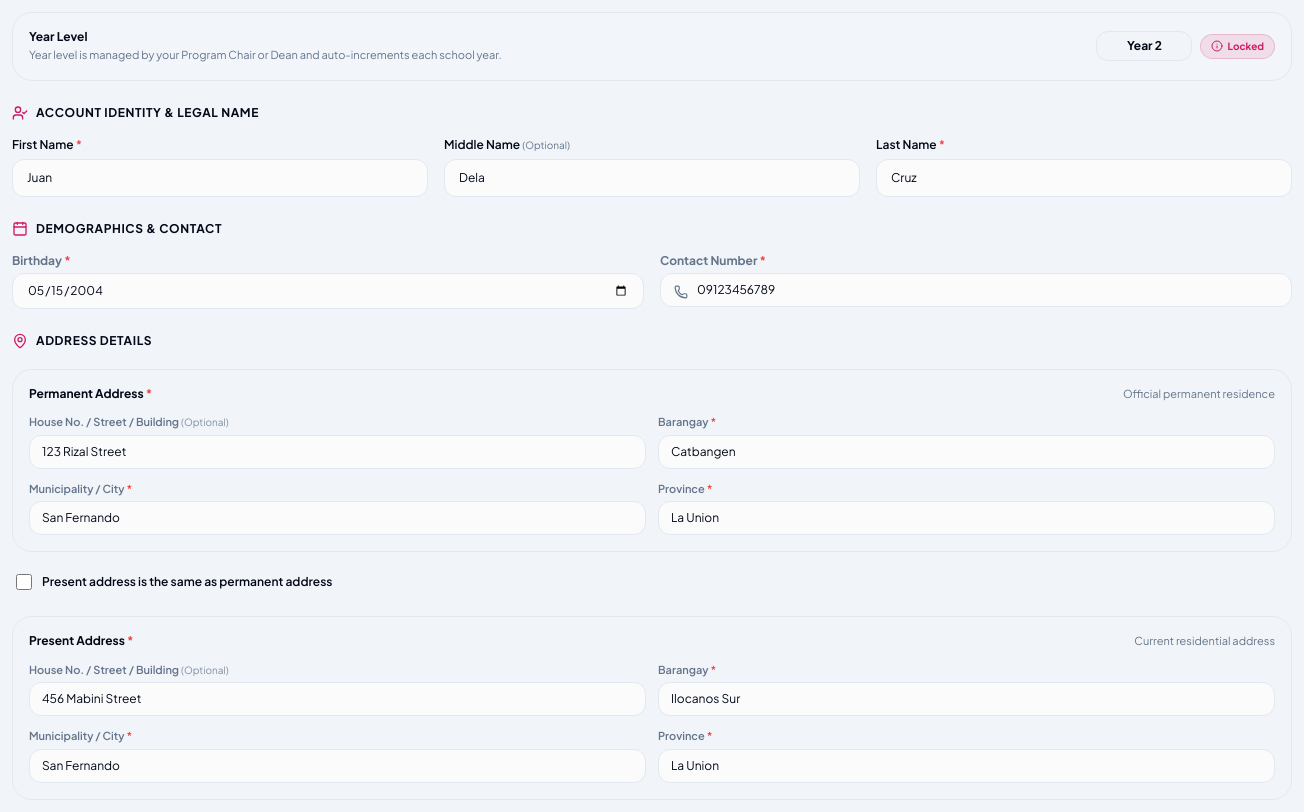
Test: StudentProfileForm Component › restricts birthday input to previous dates and blocks future birthday submission
This screenshot has width=1304, height=812.
# Attempt to set future birthday
In the date field labelled "Birthday *": (328, 290) [12,272,644,308], type "2027-02-27"
(page scrolled)
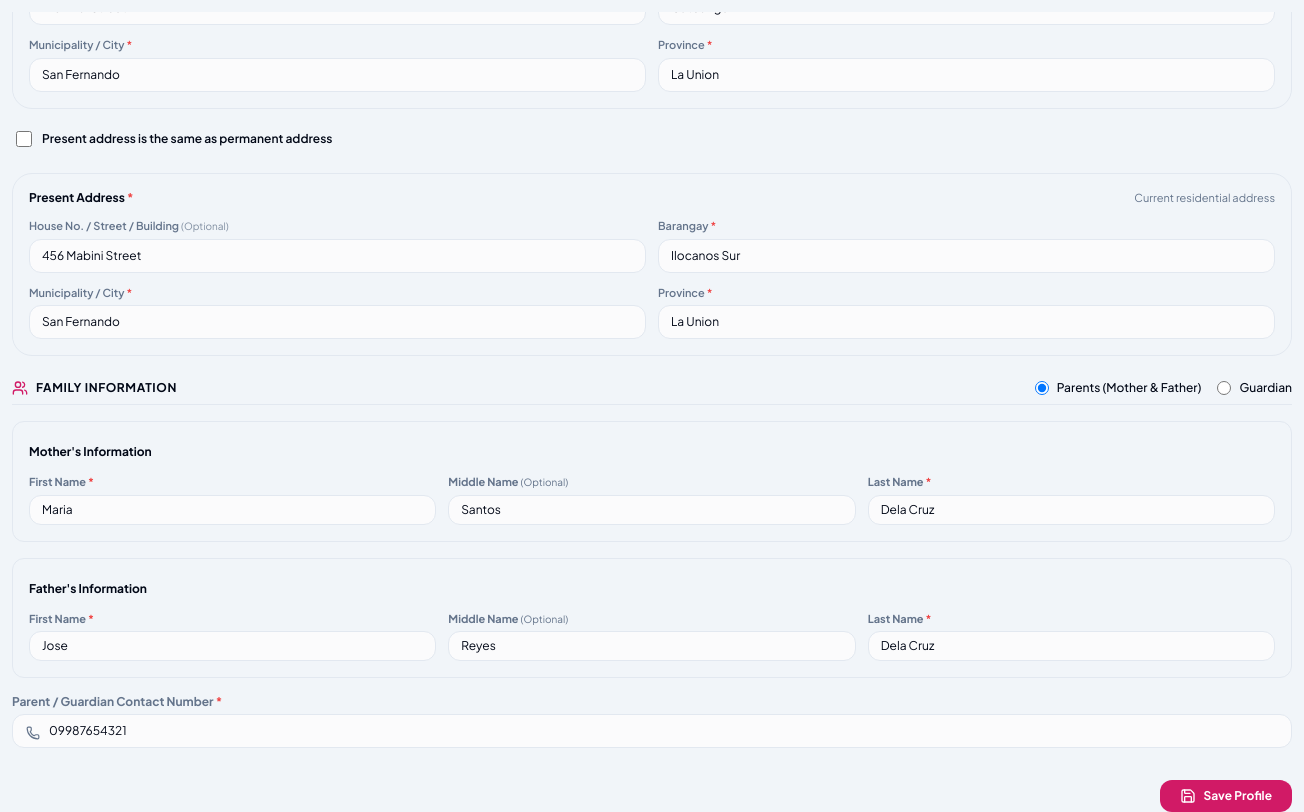
Click the button "Save Profile": (1226, 796) [1160,780,1292,811]
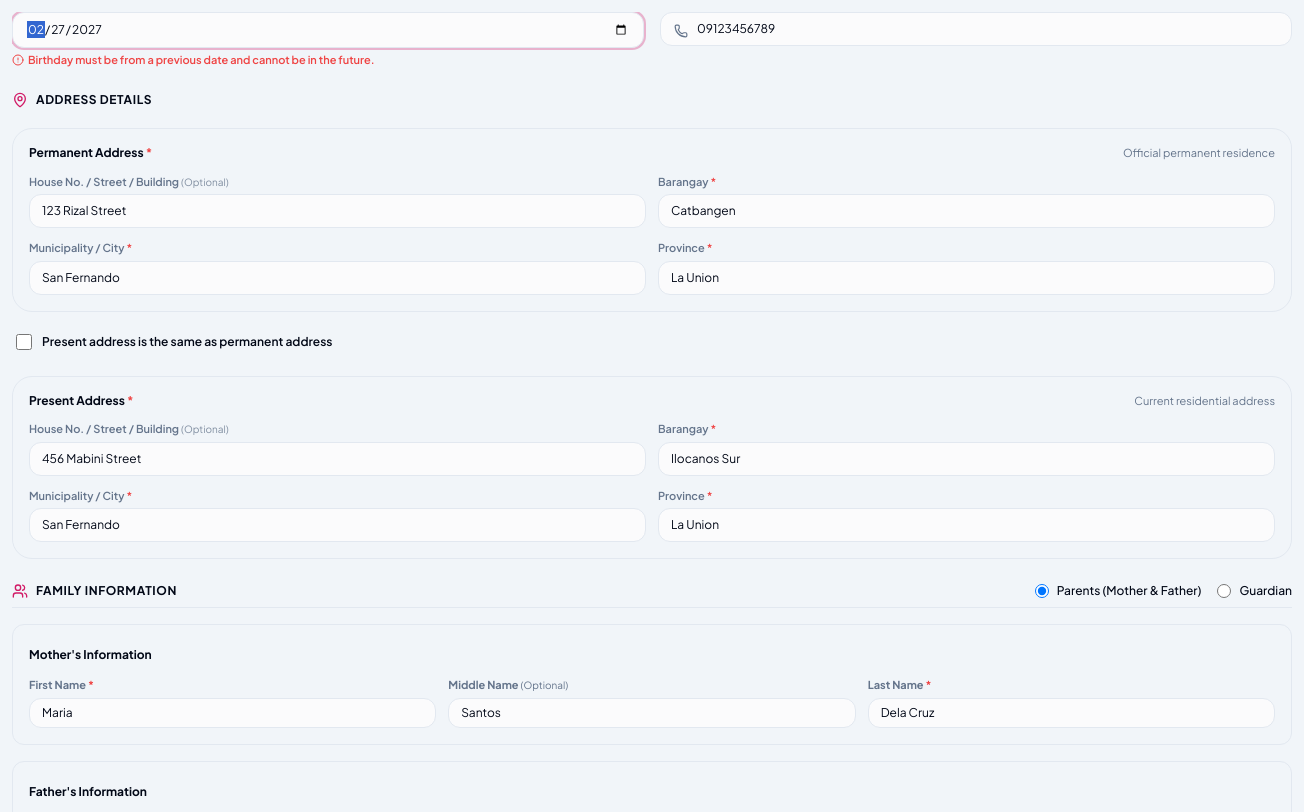
Expected: the text "Birthday must be from a previous date and cannot be in the future" is shown, [28,52,375,66]
